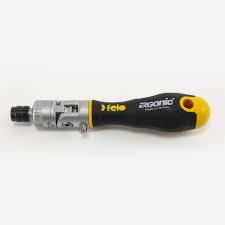screwdriver: (9, 91, 210, 132)
